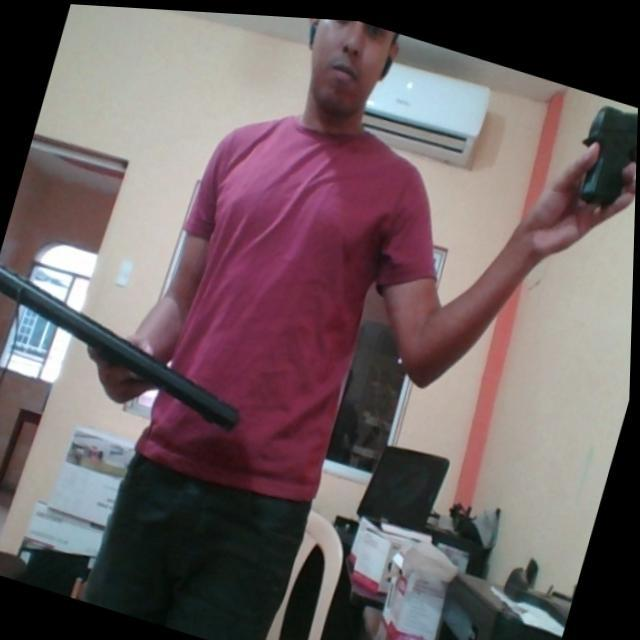weapon: (564, 84, 638, 216)
